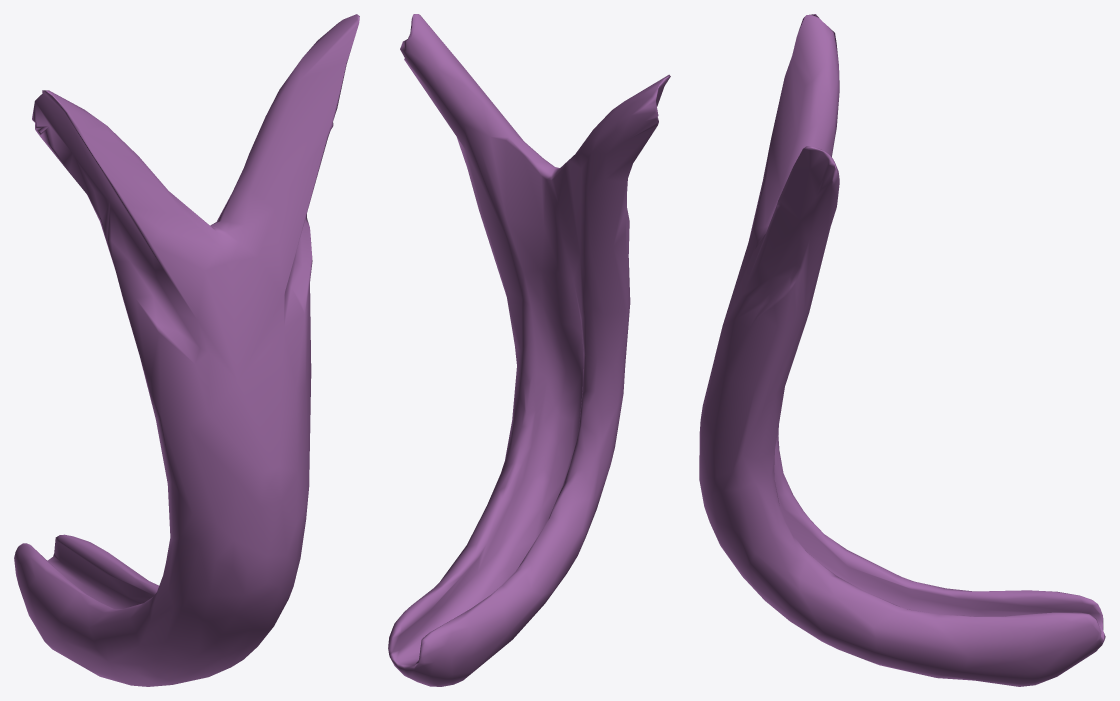
3 views of the same model, side by side, from view 1: azimuth 30°, elevation 25°; view 2: azimuth 150°, elevation 25°; view 3: azimuth 270°, elevation 25° (orthographic). The views are drawn at different scales.
Parts seen in each view (by area): view 1: 阴茎海绵体; view 2: 阴茎海绵体; view 3: 阴茎海绵体.
Boxes of the visible parts, x1,y1,x2,y2 form: 阴茎海绵体: (14,14,359,686); 阴茎海绵体: (388,14,670,686); 阴茎海绵体: (699,14,1105,686).
Bounding box in the file's own units: 0.0962 × 0.1997 × 0.1224.
